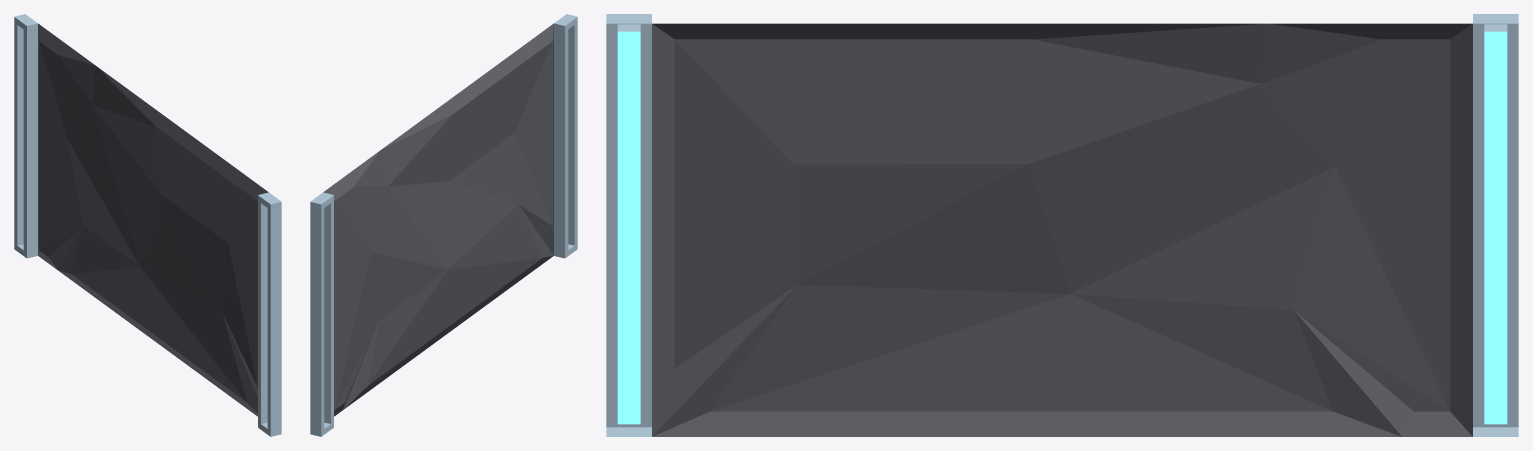
Rendered from Trim_Small_Tall.fbx.
3 views of the same model, side by side, from view 1: azimuth 30°, elevation 25°; view 2: azimuth 150°, elevation 25°; view 3: azimuth 270°, elevation 25° (orthographic). The views are drawn at different scales.
Visible parts, largest first — view 1: Trim_Small_Tall; view 2: Trim_Small_Tall; view 3: Trim_Small_Tall.
Part boxes in pixels (bbox=[...]): Trim_Small_Tall: bbox=[14, 14, 281, 436]; Trim_Small_Tall: bbox=[310, 14, 577, 436]; Trim_Small_Tall: bbox=[606, 14, 1518, 436].
Bounding box in the file's own units: 0.1011 × 2 × 4.
